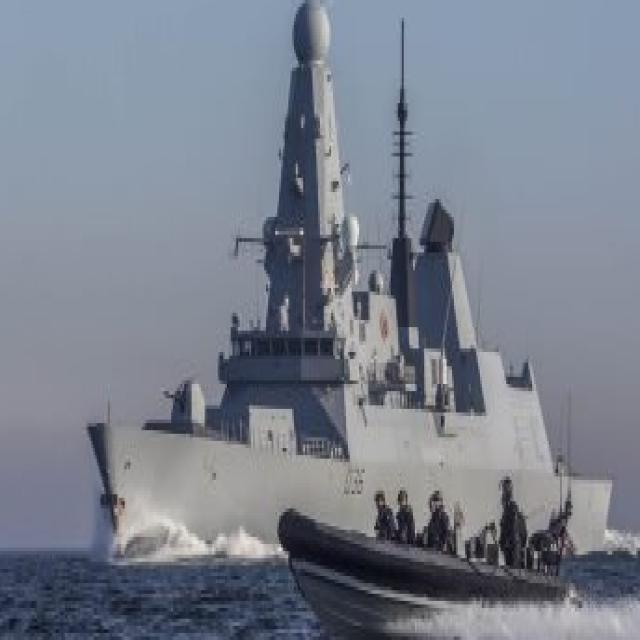houseboat: (270, 455, 593, 640)
navalvessels: (76, 6, 629, 567)
